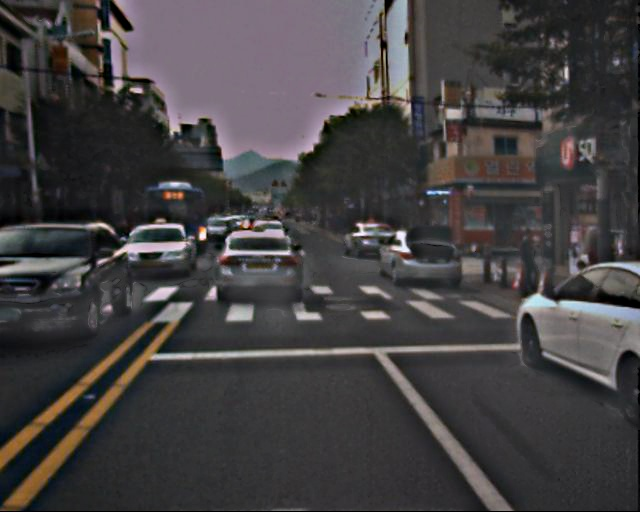person: (516, 227, 541, 294)
